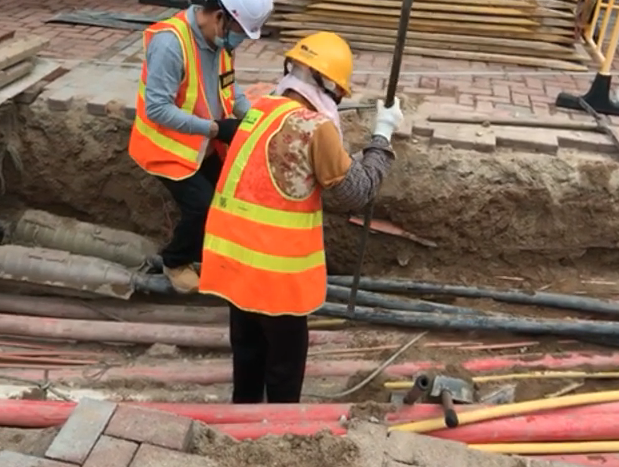Hard Hat: (284, 30, 354, 98), (214, 2, 274, 49)
Person: (237, 34, 378, 402), (131, 2, 239, 291)
Vest: (224, 87, 332, 317), (131, 6, 235, 182)
